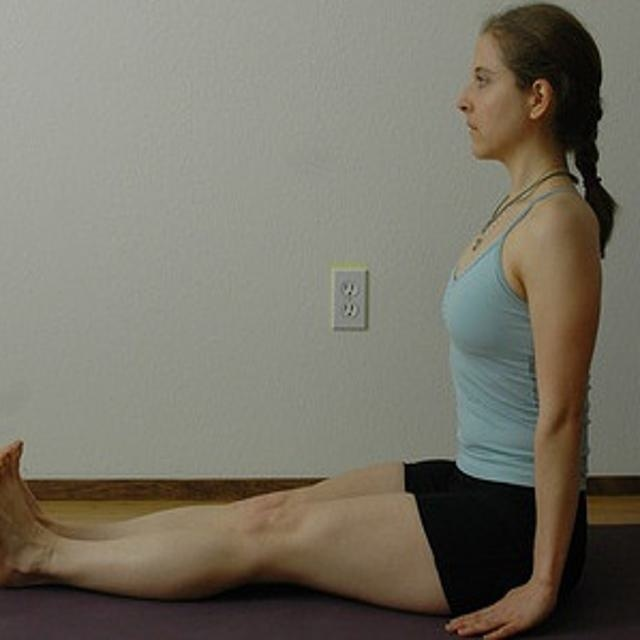Staff_Pose: (6, 4, 605, 631)
